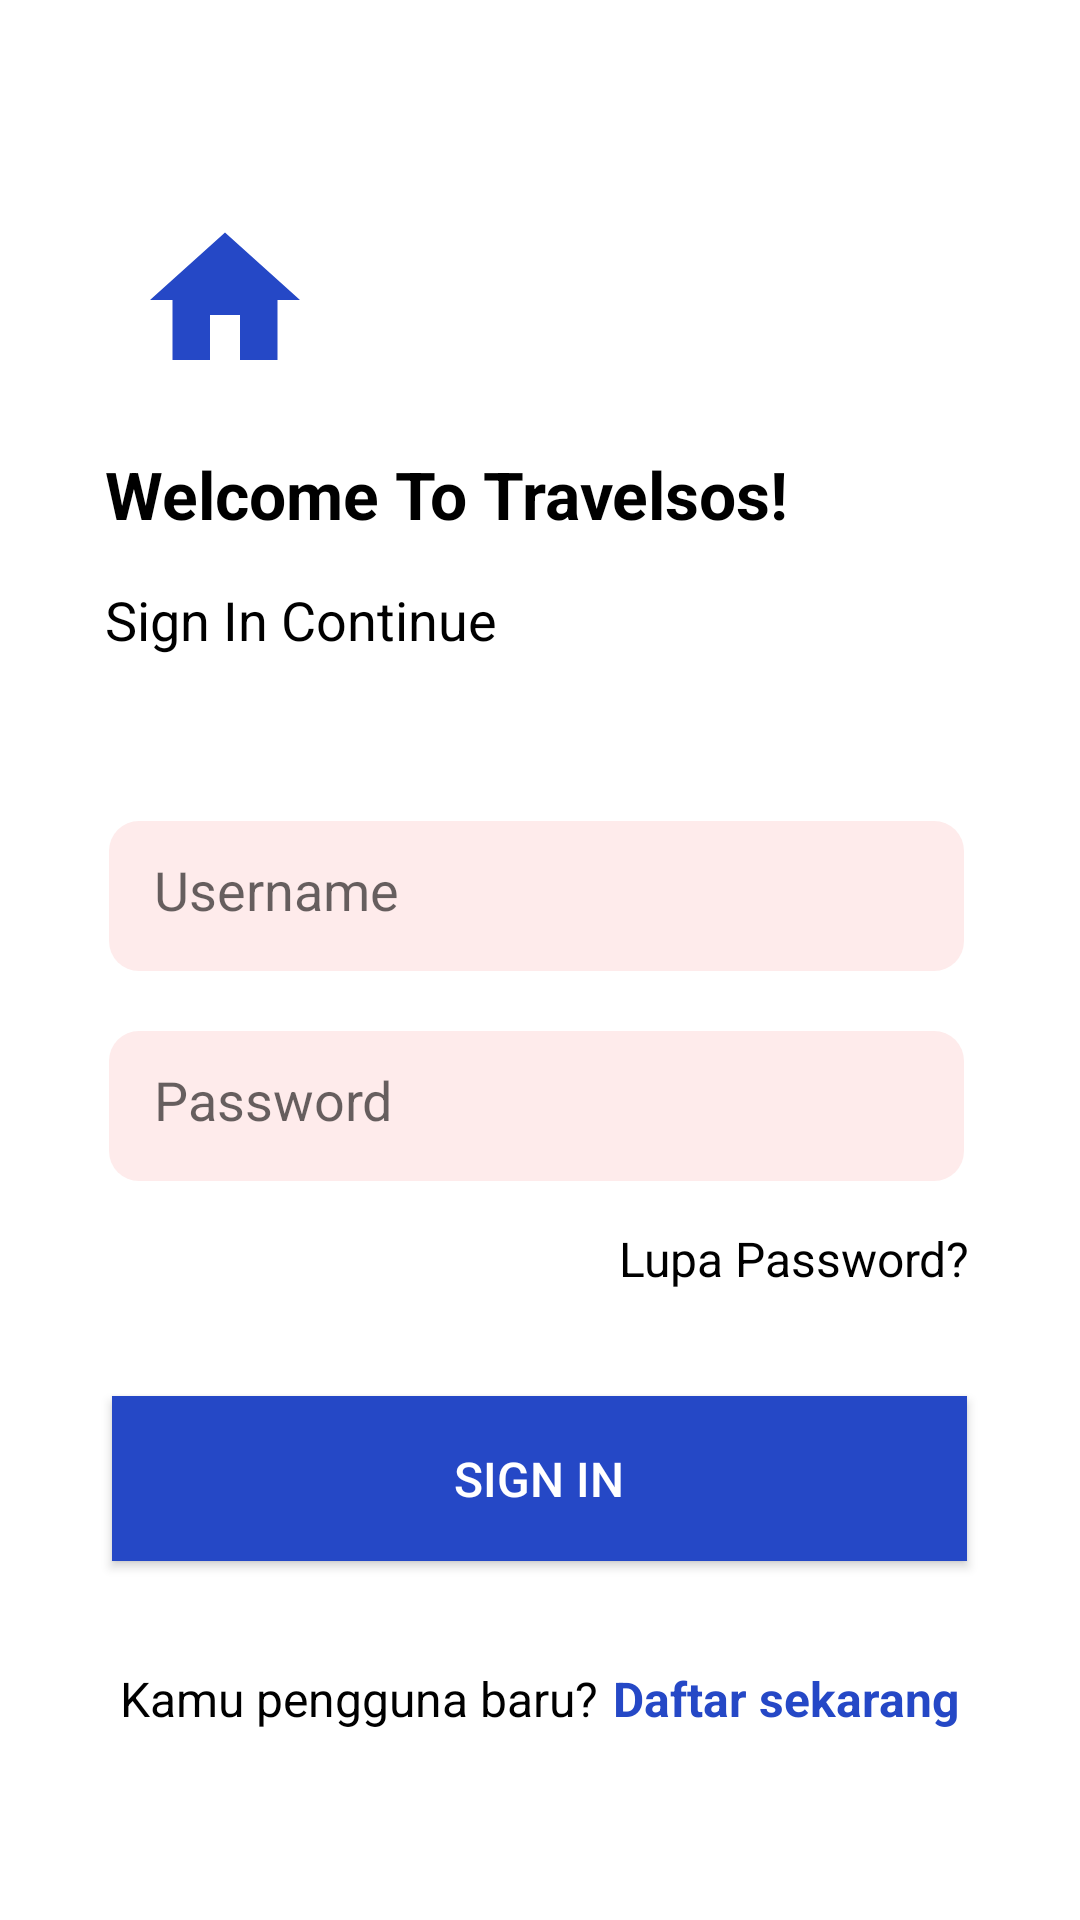

Where icons sit on this 1080*1920 app screen, as (x1,y1,x2,y2):
home: (150,232,300,360)
